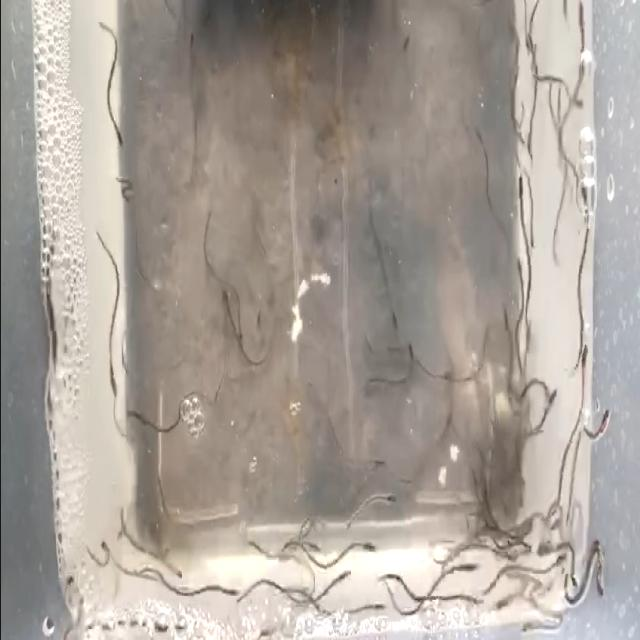inactive_glass_eel: (504, 151, 532, 238), (584, 546, 612, 606), (537, 336, 554, 424), (588, 399, 616, 450), (468, 118, 492, 170), (566, 0, 594, 43), (568, 332, 594, 378), (376, 480, 404, 518), (370, 426, 388, 478), (126, 392, 150, 431), (574, 168, 596, 210), (508, 252, 528, 296), (453, 559, 483, 588), (353, 532, 378, 566), (292, 530, 324, 556), (327, 556, 349, 592), (170, 540, 184, 596), (525, 604, 551, 632), (379, 302, 401, 334), (400, 341, 420, 376), (223, 569, 241, 607), (496, 305, 512, 341), (101, 360, 117, 396), (362, 600, 387, 622), (562, 549, 576, 588), (116, 131, 132, 160), (492, 600, 516, 619)
